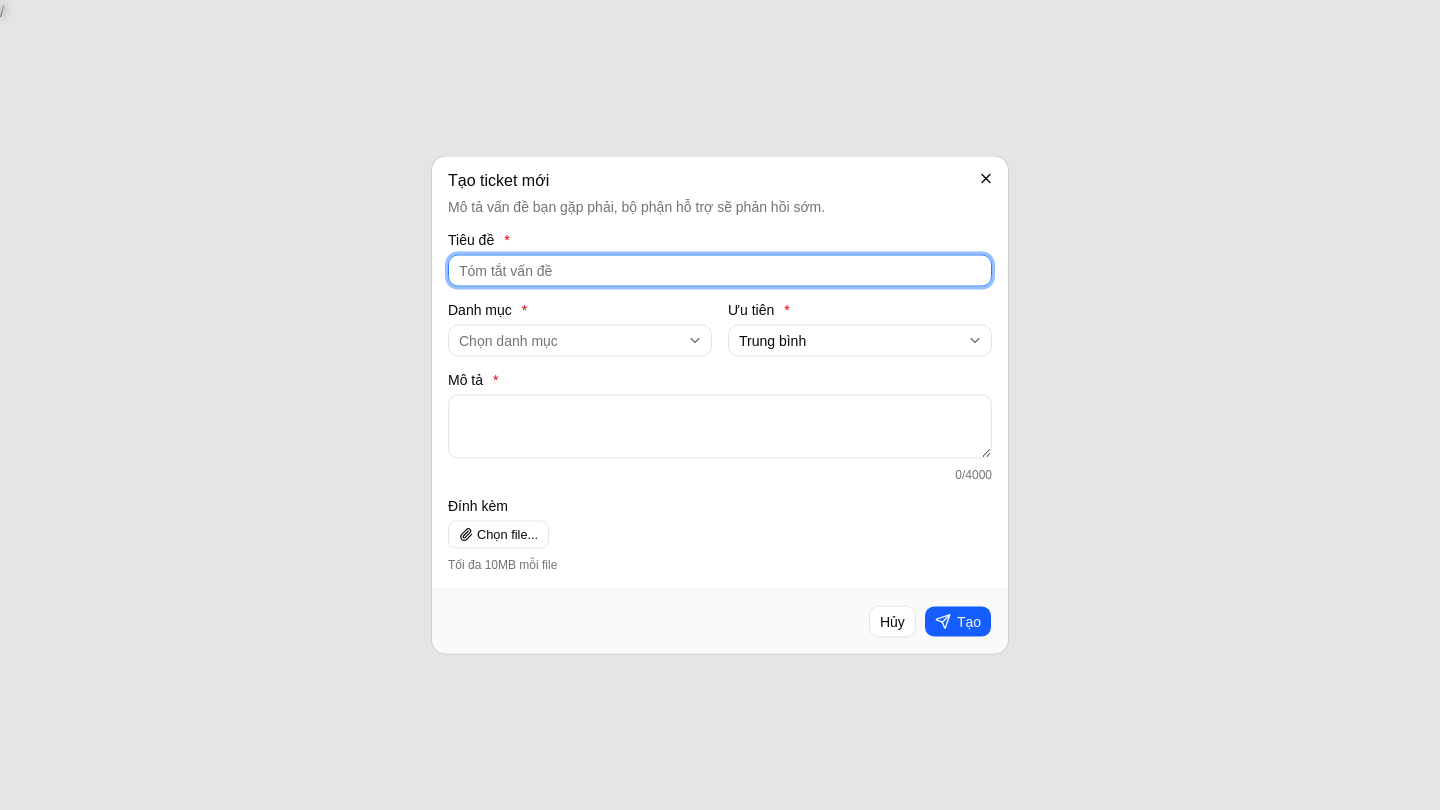
Test case: CreateTicketDialog › maps server-side ProblemDetails errors onto fields
Type "Trùng" into the field labelled "Tiêu đề".
click(720, 270); type("Trùng")  # box [448,254,992,286]
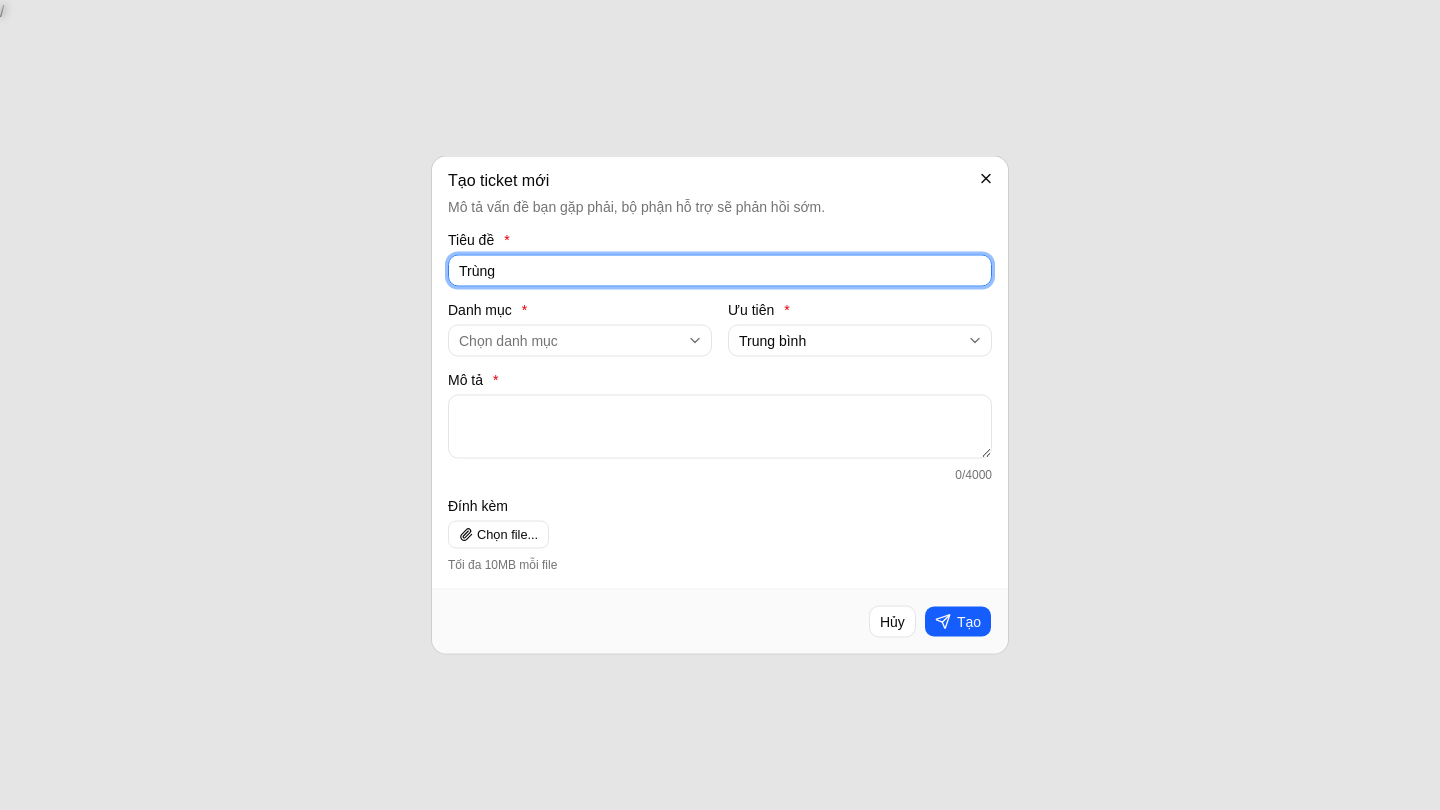
Type "abc" into the text box labelled "Mô tả".
click(720, 426); type("abc")  # box [448,394,992,458]
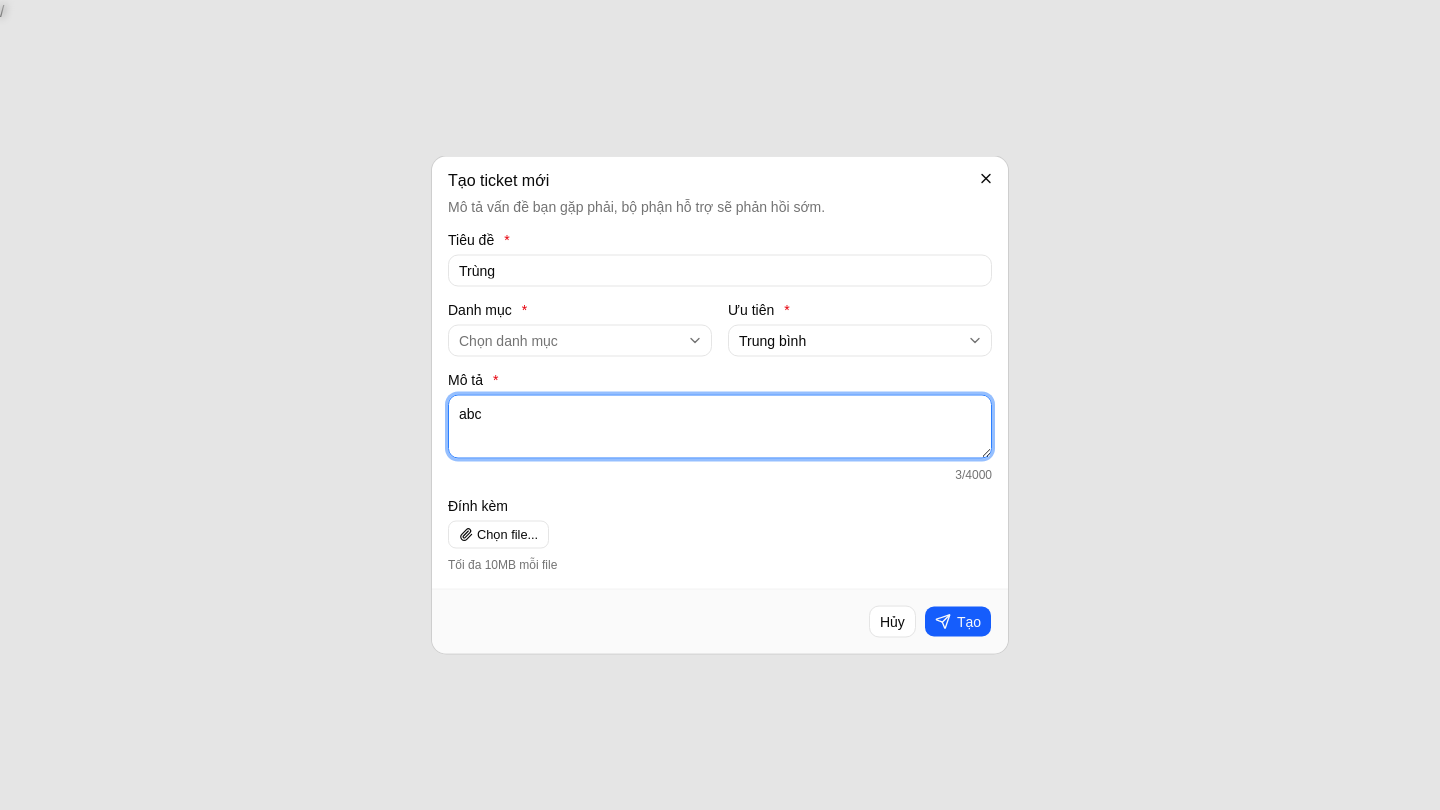
Click the dropdown labelled "danh mục".
click(508, 340)  # box [448,324,712,356]
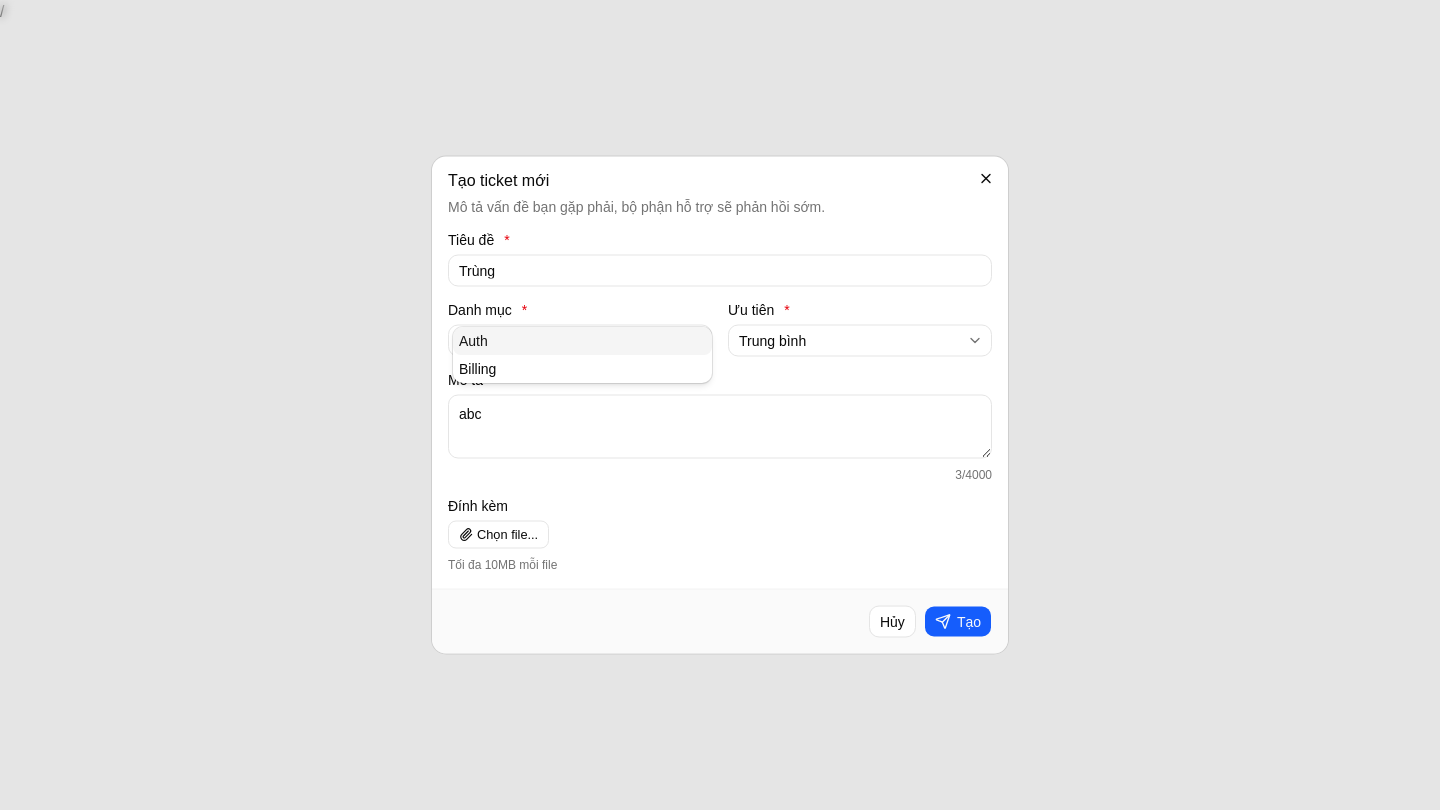
Click the option "Auth".
click(582, 340)  # box [453,326,712,354]
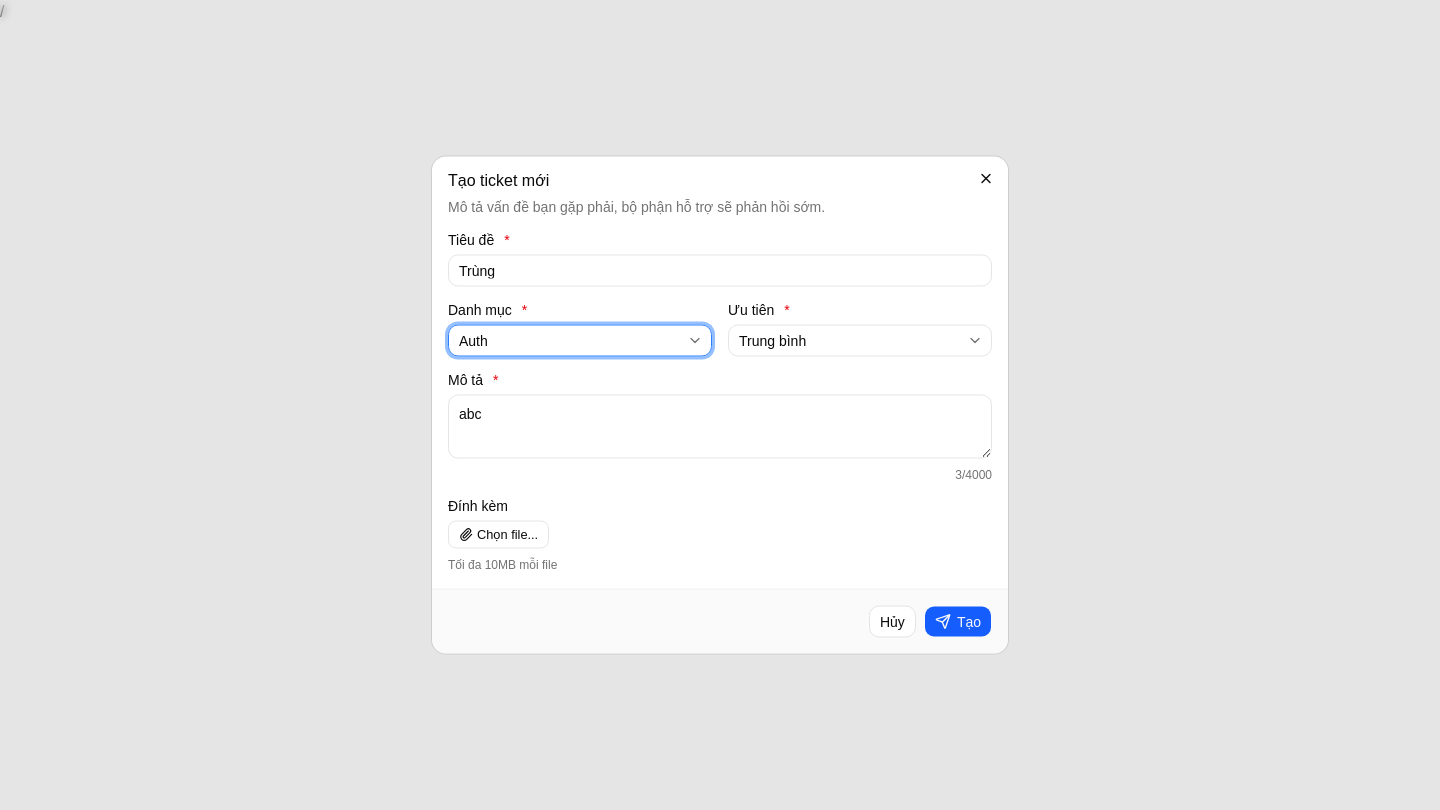
Click the button "Tạo".
click(958, 622)  # box [924,606,992,638]
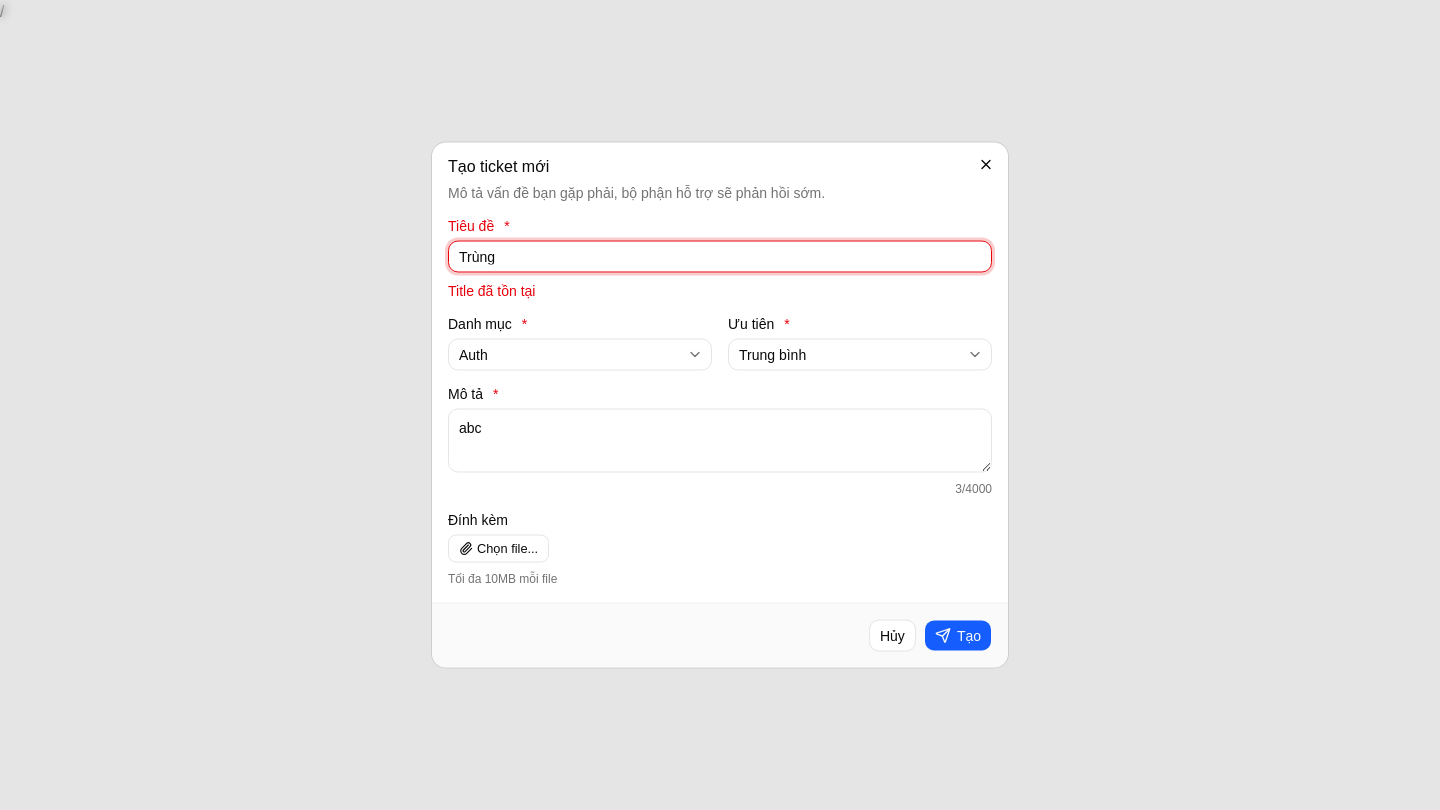
Check: the text "Title đã tồn tại" is shown, box [448,282,535,298]
